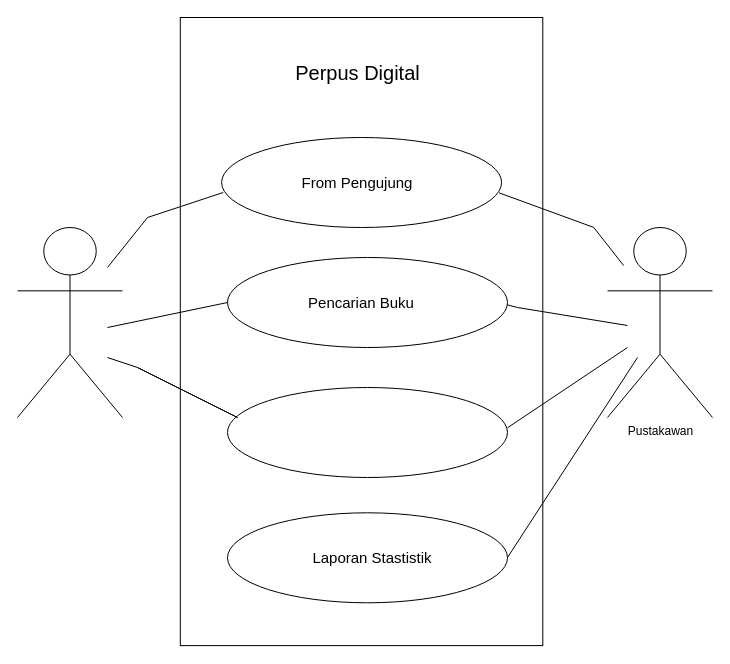
This 730x664 diagram has some shape labels left out. The centre of each missing label's shape, as x and y in pixels:
Detail Buku: the point at 367,432
Pengujung: the point at 69,322
